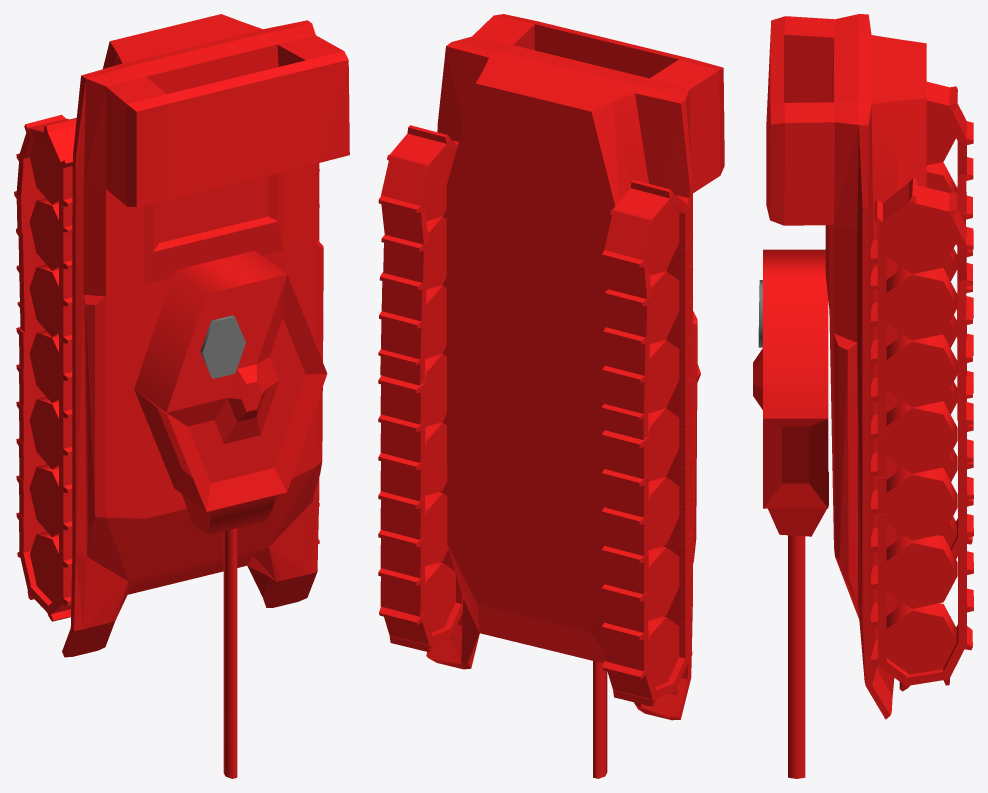
The model's file is TankVar2.fbx.
The picture shows the model from 3 angles, left to right: view 1: azimuth 30°, elevation 25°; view 2: azimuth 150°, elevation 25°; view 3: azimuth 270°, elevation 25°; orthographic projection. The views are drawn at different scales.
Visible parts, largest first — view 1: Chasis, Cylinder041, Cylinder039, Cylinder027, Cylinder035, Cylinder028, Cylinder037, Cylinder038, Cylinder036, Box095, Box101, Box103 (+3 smaller); view 2: Chasis, Cylinder039, Cylinder032, Track2, Box085, Box106, Cylinder037, Cylinder038, Cylinder036, Box083, Cylinder029, Box104 (+22 smaller); view 3: Chasis, Cylinder041, Track2, Cylinder032, Cylinder027, Cylinder030, Cylinder031, Cylinder029, Cylinder039, Cylinder028, Box086, Box074 (+21 smaller).
Boxes of the visible parts, bbox=[...] form: Chasis: bbox=[62, 14, 349, 657]; Cylinder041: bbox=[134, 250, 327, 511]; Cylinder039: bbox=[14, 138, 72, 403]; Cylinder027: bbox=[223, 528, 237, 778]; Cylinder035: bbox=[200, 315, 245, 378]; Cylinder028: bbox=[182, 494, 277, 534]; Cylinder037: bbox=[29, 464, 58, 537]; Cylinder038: bbox=[29, 397, 58, 469]; Cylinder036: bbox=[30, 531, 58, 602]; Box095: bbox=[47, 125, 75, 170]; Box101: bbox=[16, 438, 46, 480]; Box103: bbox=[16, 364, 45, 406]; Chasis: bbox=[426, 14, 724, 720]; Cylinder039: bbox=[601, 206, 692, 481]; Cylinder032: bbox=[378, 151, 454, 385]; Track2: bbox=[424, 216, 446, 426]; Box085: bbox=[381, 154, 433, 205]; Box106: bbox=[604, 209, 657, 260]; Cylinder037: bbox=[648, 546, 679, 620]; Cylinder038: bbox=[648, 477, 679, 549]; Cylinder036: bbox=[648, 616, 679, 686]; Box083: bbox=[378, 375, 425, 424]; Cylinder029: bbox=[425, 562, 455, 632]; Box104: bbox=[601, 430, 648, 479]; Chasis: bbox=[766, 14, 926, 719]; Cylinder041: bbox=[753, 249, 828, 508]; Track2: bbox=[886, 268, 957, 473]; Cylinder032: bbox=[870, 210, 972, 439]; Cylinder027: bbox=[788, 535, 805, 778]; Cylinder030: bbox=[886, 535, 957, 608]; Cylinder031: bbox=[886, 467, 957, 540]; Cylinder029: bbox=[886, 603, 956, 674]; Cylinder039: bbox=[926, 109, 973, 347]; Cylinder028: bbox=[768, 471, 828, 536]; Box086: bbox=[909, 178, 949, 219]; Box074: bbox=[874, 183, 914, 231].
Size of the model in its own units: 57.72 by 151 by 42.59.
